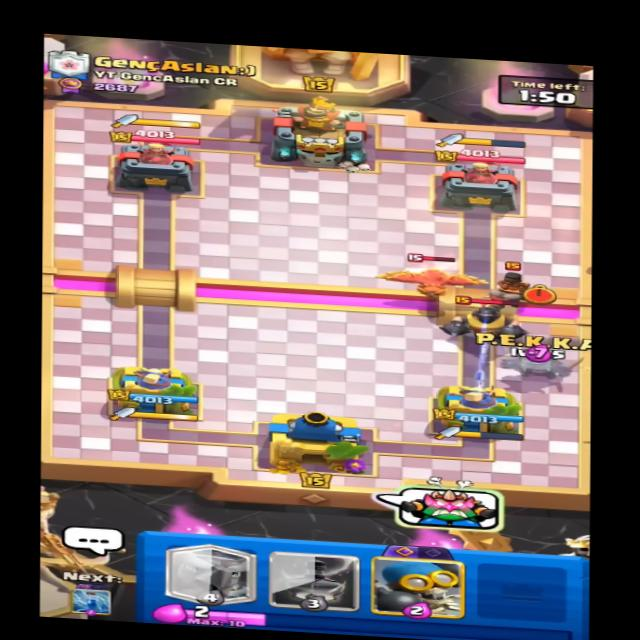mega-knight: (439, 293, 537, 351)
phoenix: (374, 247, 493, 301)
ram-rider: (480, 253, 540, 310)
